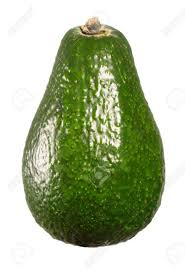abacate: (21, 19, 167, 247)
